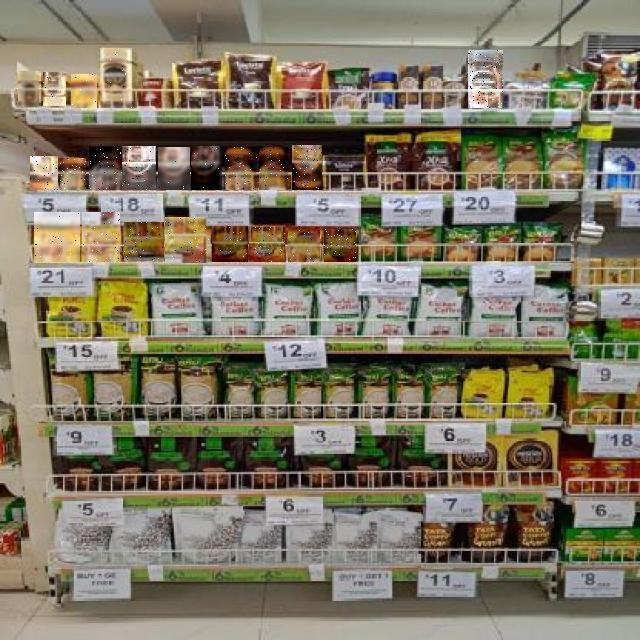Coffee: (35, 212, 81, 262), (468, 50, 503, 108), (166, 217, 210, 263), (100, 49, 132, 109), (82, 212, 120, 262), (124, 222, 164, 261), (122, 147, 156, 191), (89, 147, 122, 190), (192, 147, 224, 191), (158, 147, 190, 190), (226, 147, 258, 190), (292, 145, 322, 190), (249, 226, 285, 262), (212, 227, 248, 263), (260, 147, 290, 190), (288, 227, 320, 262), (324, 229, 356, 262), (31, 156, 59, 190), (71, 74, 97, 108), (60, 158, 86, 190), (43, 72, 66, 106), (18, 71, 39, 107)
